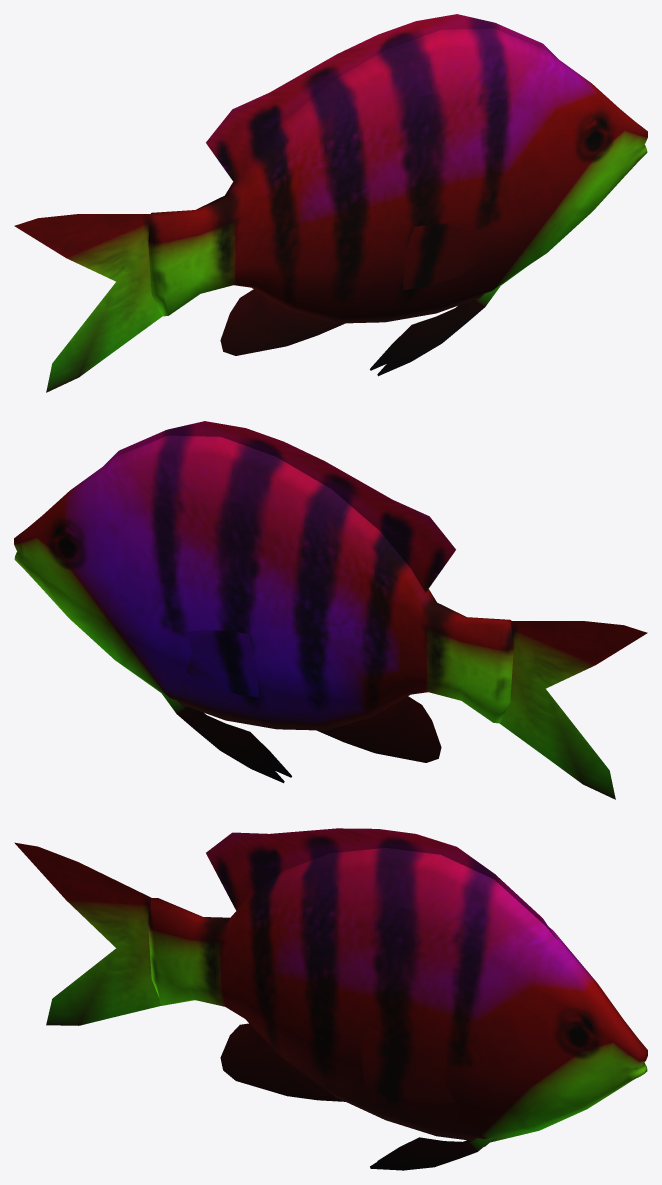
File: sergeant_major.glb
3 views of the same model, one above another, from view 1: azimuth 30°, elevation 25°; view 2: azimuth 150°, elevation 25°; view 3: azimuth 330°, elevation 25° (orthographic).
Parts seen in each view (by area): view 1: SergeantMajor; view 2: SergeantMajor; view 3: SergeantMajor.
Part boxes in pixels (bbox=[...]): SergeantMajor: bbox=[14, 14, 647, 392]; SergeantMajor: bbox=[14, 421, 647, 799]; SergeantMajor: bbox=[14, 828, 647, 1170].
Size of the model in its own units: 1 by 0.5173 by 0.124.
1 material, 1 textured.
